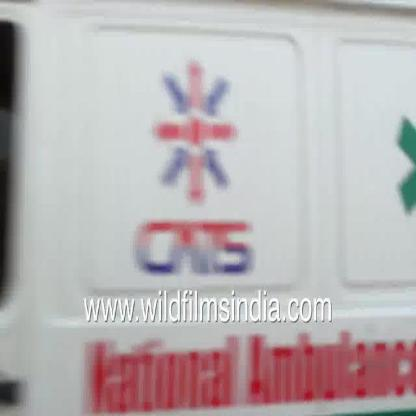priority: (0, 2, 416, 289)
